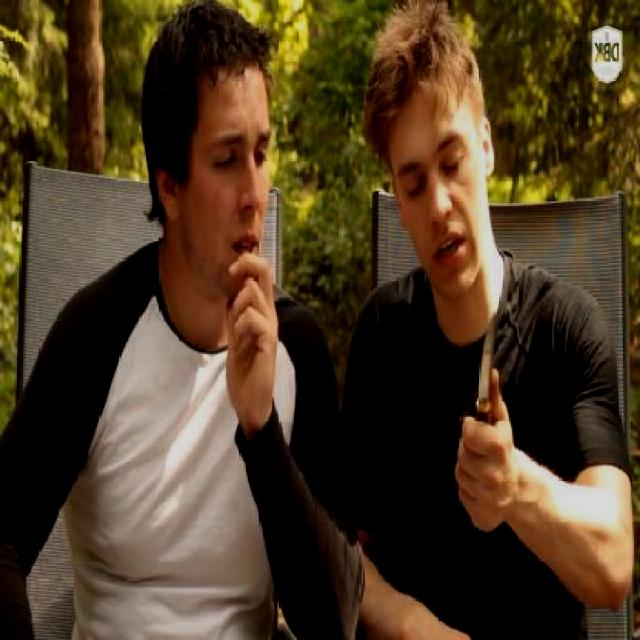knife: (452, 280, 517, 498)
